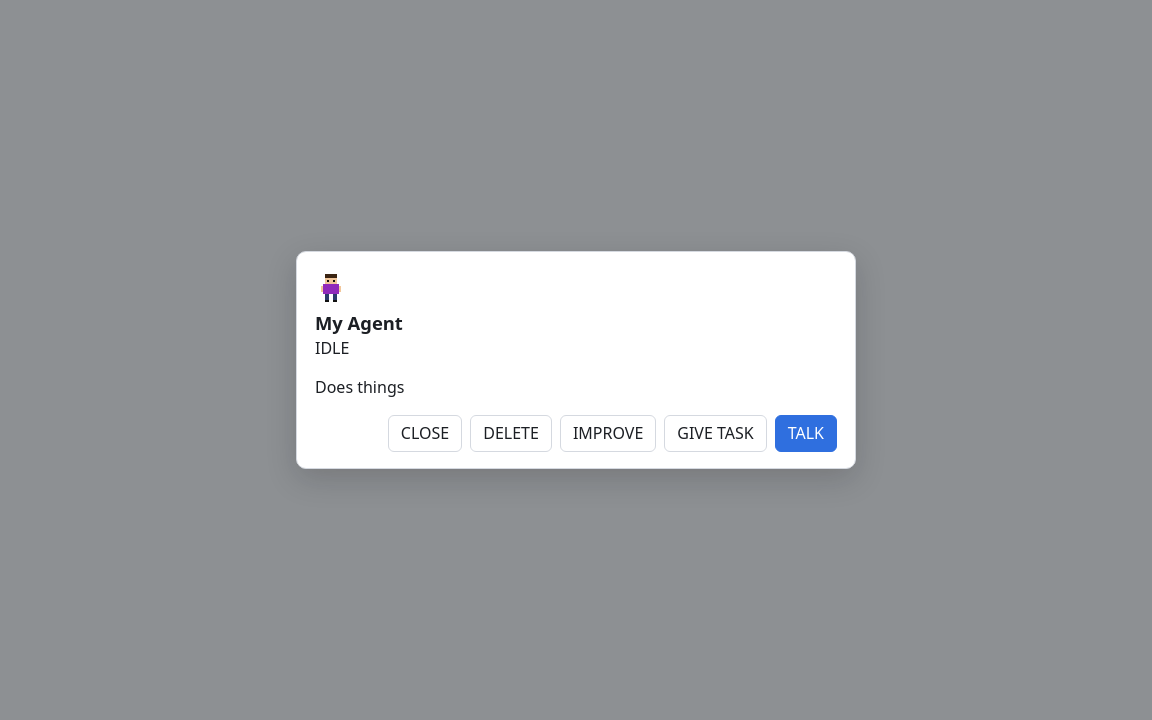
a task that fails to start keeps the draft and shows why
Click the button "GIVE TASK" at (716, 434), box [664,415,767,452]
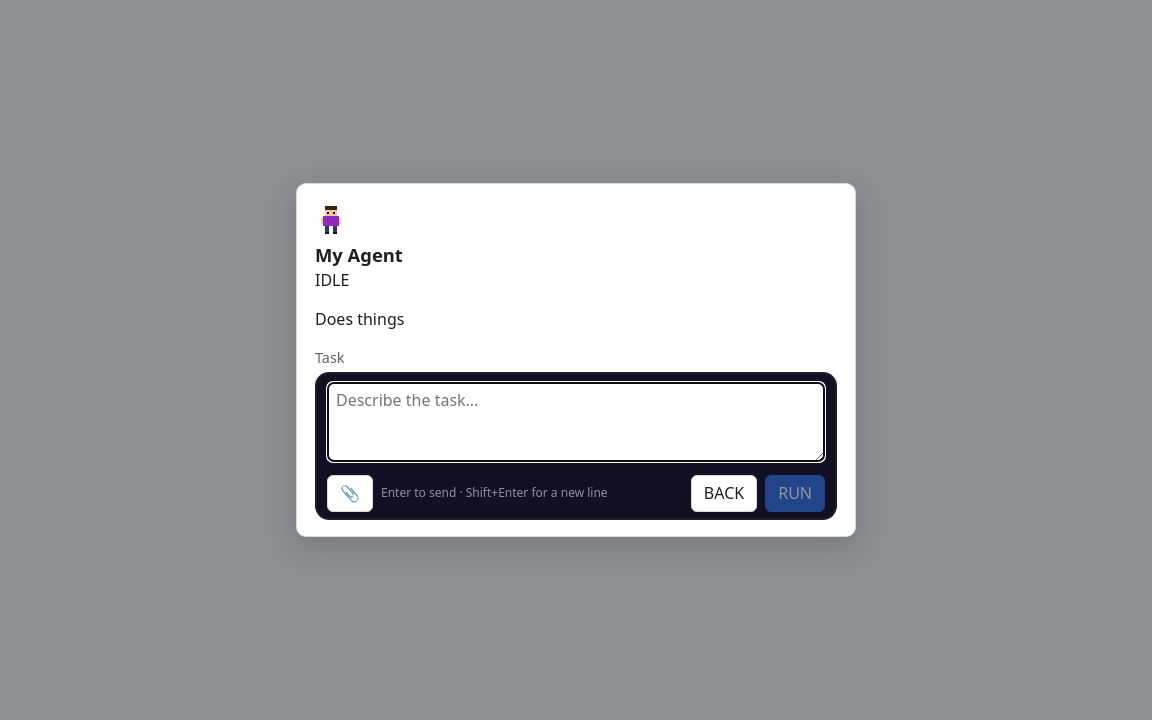
Type "tidy" into the text box labelled "Task" at (576, 422), box [327,382,825,462]
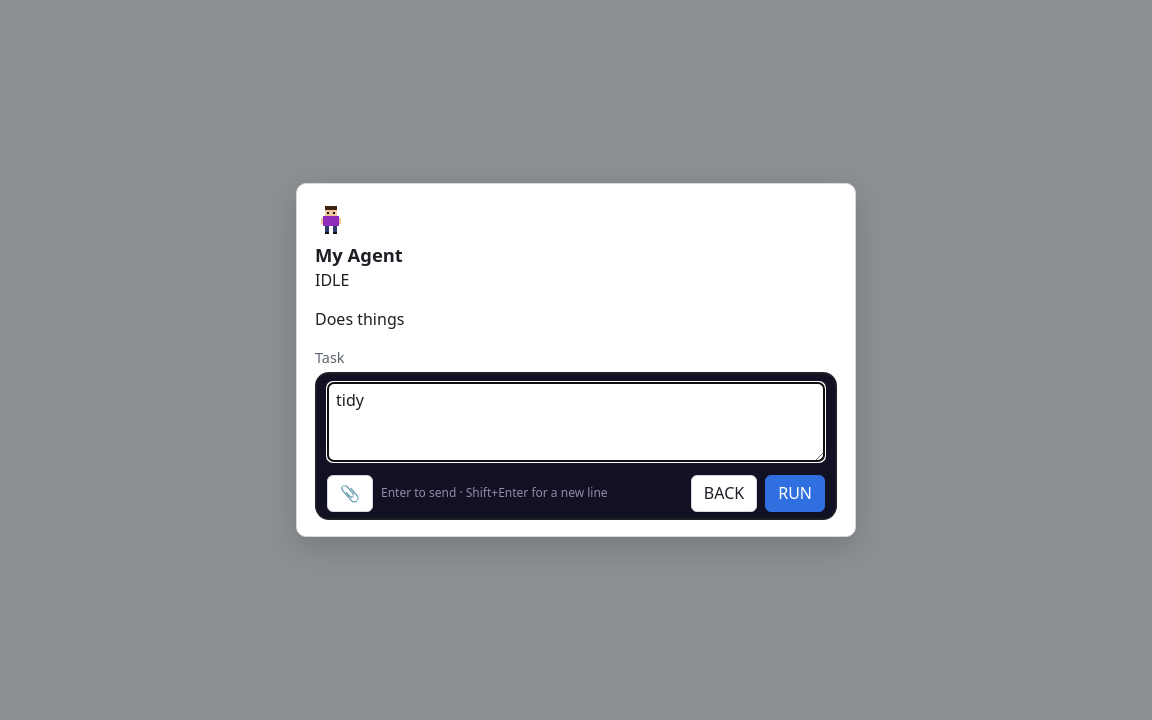
Click the button "RUN" at (795, 493), box [765,475,825,512]
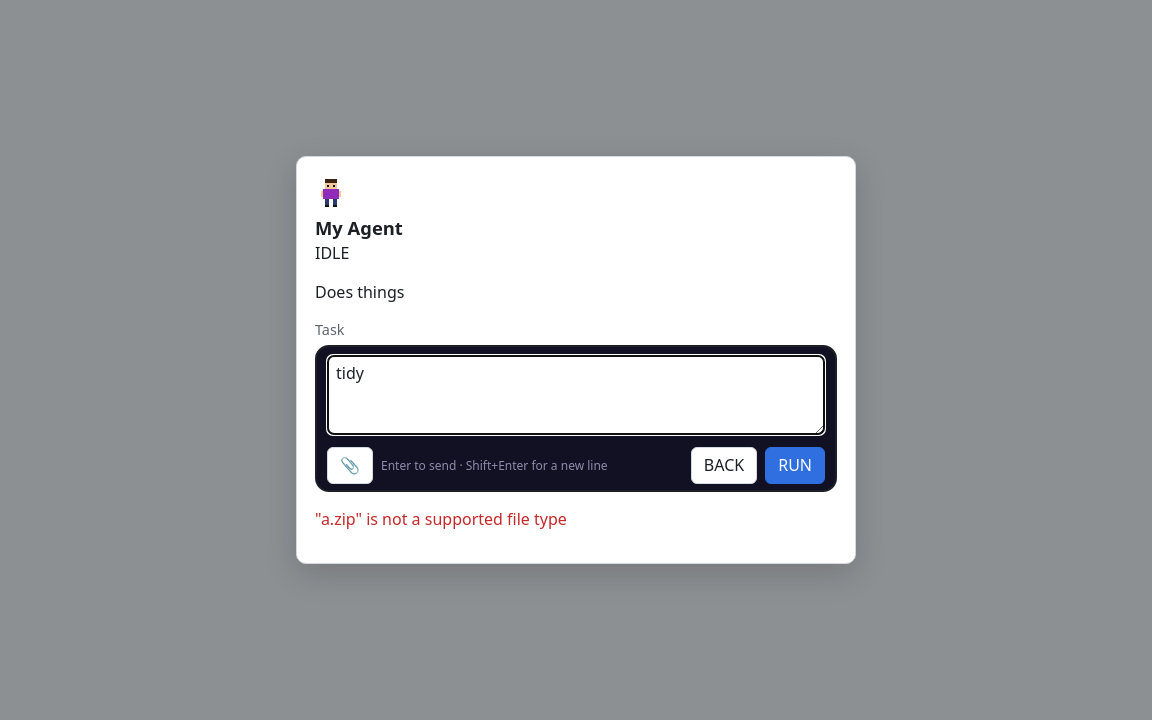
Result: the message shows "not a supported file type" at [315,508,567,530]
